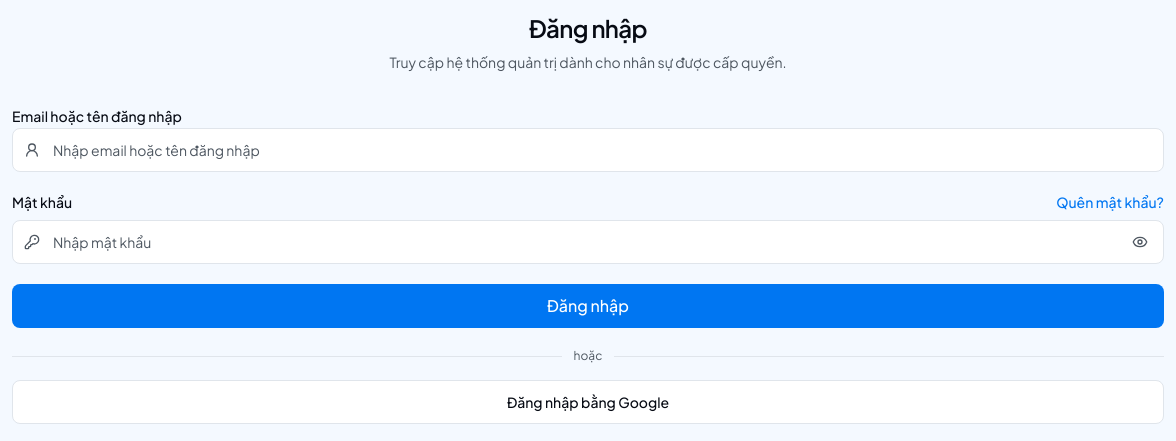
LoginForm Firebase Google login › keeps the password value when visibility changes
This screenshot has width=1176, height=441.
Type "Password123" into the password field labelled "Mật khẩu" at {"x": 588, "y": 242}, box [12,220,1164,264]
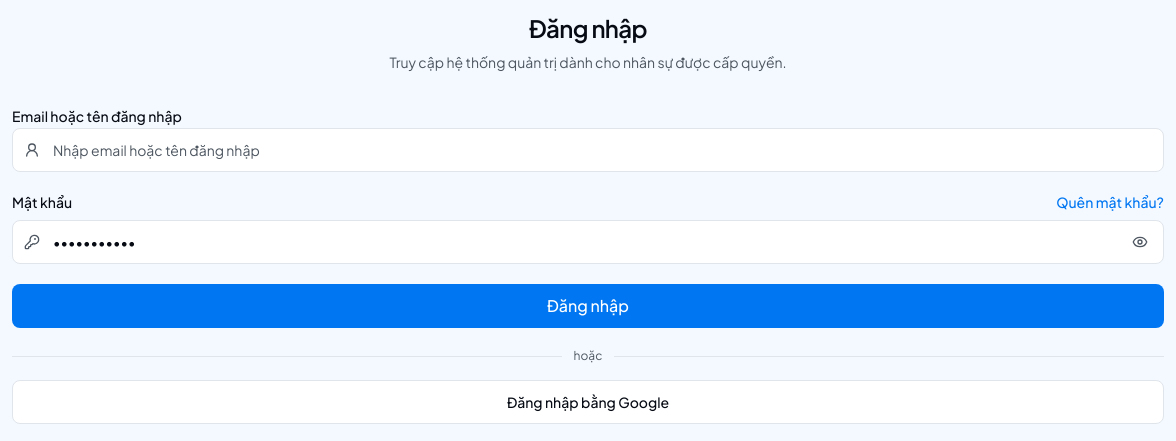
Click the button named "Hiện mật khẩu" at {"x": 1140, "y": 242}, box [1120,222,1160,262]
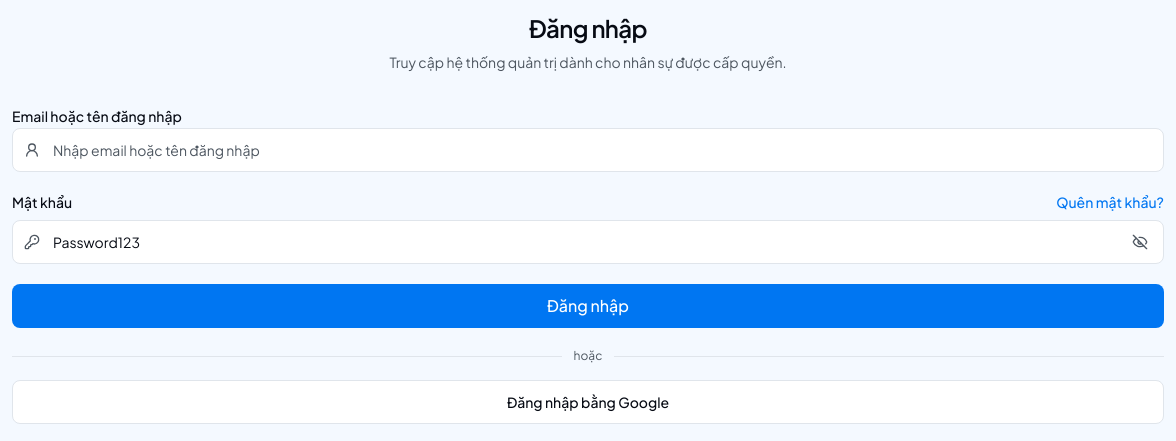
expect the field labelled "Mật khẩu" shows its text: met, box [12,220,1164,264]
